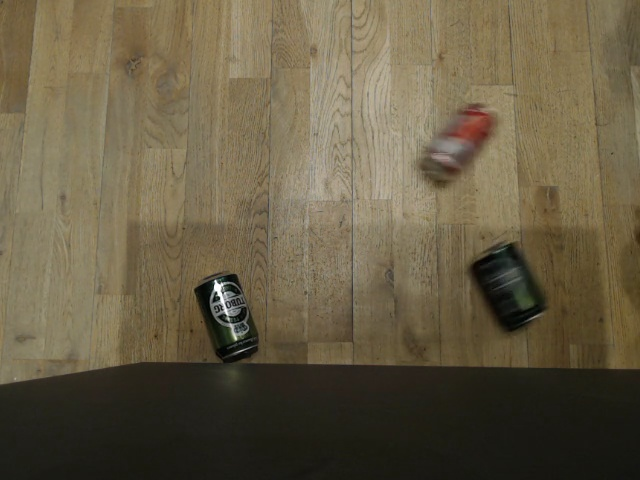beer: (467, 241, 545, 333), (192, 272, 259, 360)
cola: (415, 104, 490, 186)
